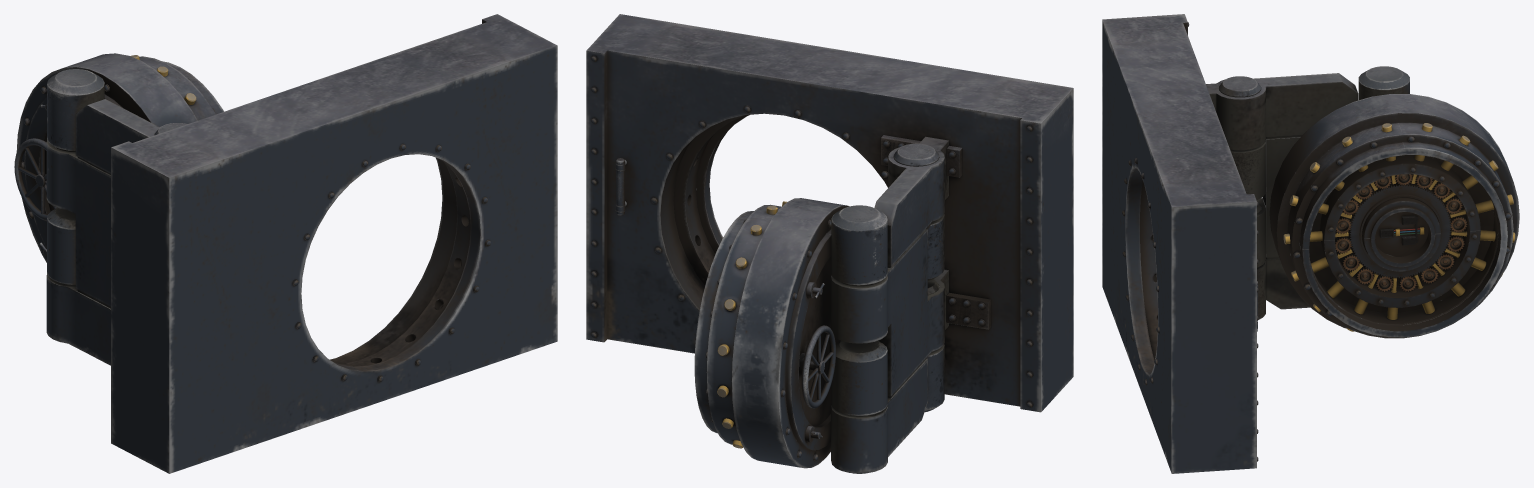
File: bank_vault__armored_door__low_poly.glb
The picture shows the model from 3 angles, left to right: view 1: azimuth 30°, elevation 25°; view 2: azimuth 150°, elevation 25°; view 3: azimuth 270°, elevation 25°; orthographic projection. The views are drawn at different scales.
Parts seen in each view (by area): view 1: Object_6, Object_3, Object_8, Object_5, Object_4, Object_7; view 2: Object_6, Object_3, Object_8, Object_5, Object_4, Object_7; view 3: Object_6, Object_3, Object_2, Object_8, Object_4, Object_7, Object_5.
Boxes of the visible parts, bbox=[...] form: Object_6: bbox=[46, 14, 557, 473]; Object_3: bbox=[16, 53, 223, 262]; Object_8: bbox=[40, 55, 196, 256]; Object_5: bbox=[21, 118, 75, 285]; Object_4: bbox=[14, 78, 214, 221]; Object_7: bbox=[292, 143, 490, 381]; Object_6: bbox=[586, 14, 1073, 473]; Object_3: bbox=[694, 120, 1033, 468]; Object_8: bbox=[615, 105, 887, 448]; Object_5: bbox=[591, 55, 985, 473]; Object_4: bbox=[799, 325, 836, 408]; Object_7: bbox=[717, 279, 944, 412]; Object_6: bbox=[1102, 14, 1477, 473]; Object_3: bbox=[1188, 22, 1519, 338]; Object_2: bbox=[1310, 155, 1498, 323]; Object_8: bbox=[1257, 66, 1515, 331]; Object_4: bbox=[1293, 141, 1467, 316]; Object_7: bbox=[1122, 158, 1481, 385]; Object_5: bbox=[1257, 167, 1511, 461].
Size of the model in its own units: 4.85 by 3.13 by 4.43.
Materials: 2 (2 with a texture image).
